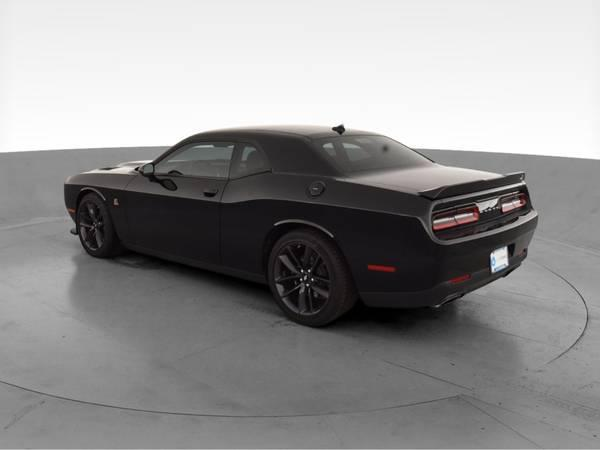Front_Fender: (62, 174, 136, 248)
Front_Left_Door: (118, 172, 229, 271)
Front_Left_Window: (137, 141, 237, 180)
Left_Taillight: (428, 194, 481, 233)
Rear_Bumper: (333, 213, 537, 304)
Rear_Fender: (217, 143, 433, 286)
Rear_Windshield: (316, 135, 432, 173)
Right_Taillight: (498, 184, 532, 222)
Roof: (141, 125, 381, 176)
Tailgate: (343, 159, 529, 230)
Wheel: (268, 228, 358, 322), (78, 195, 118, 256)
